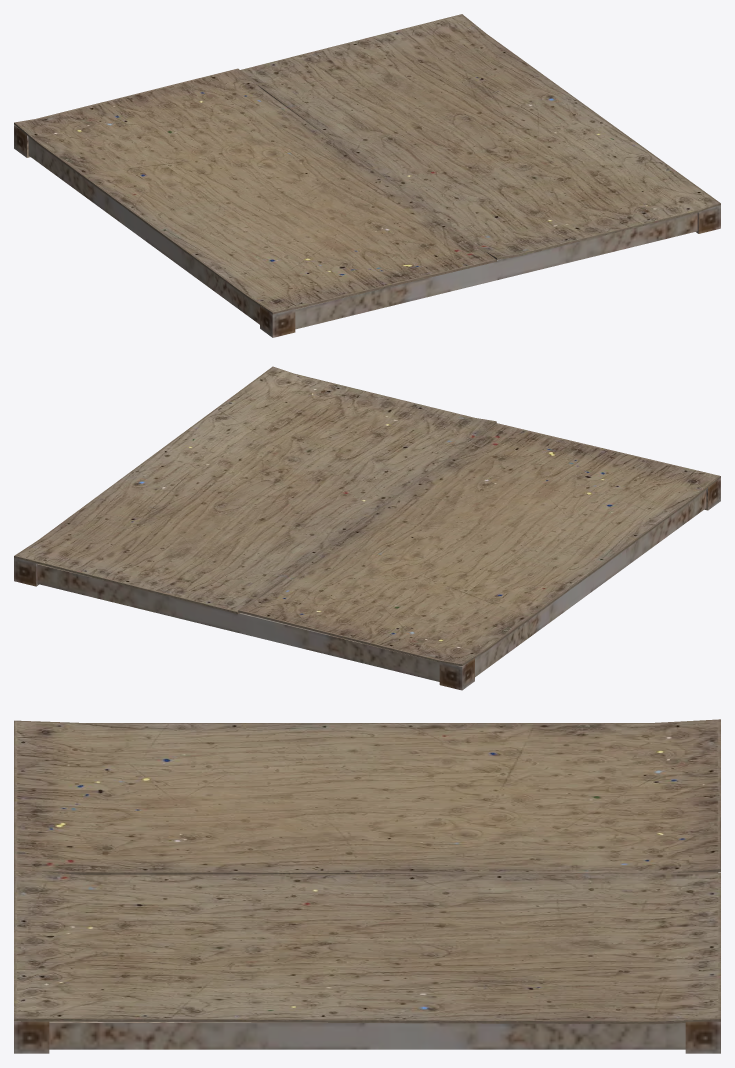
The model's file is floor.container.inside.glb.
The picture shows the model from 3 angles, top to bottom: view 1: azimuth 30°, elevation 25°; view 2: azimuth 150°, elevation 25°; view 3: azimuth 270°, elevation 25°; orthographic projection. The views are drawn at different scales.
Parts seen in each view (by area): view 1: floor.container.inside; view 2: floor.container.inside; view 3: floor.container.inside.
Part boxes in pixels (x1,y1,x2,y2): floor.container.inside: [14, 14, 720, 337]; floor.container.inside: [14, 366, 720, 690]; floor.container.inside: [14, 719, 720, 1053].
Size of the model in its own units: 3 by 0.1664 by 3.
2 materials, 2 textured.
